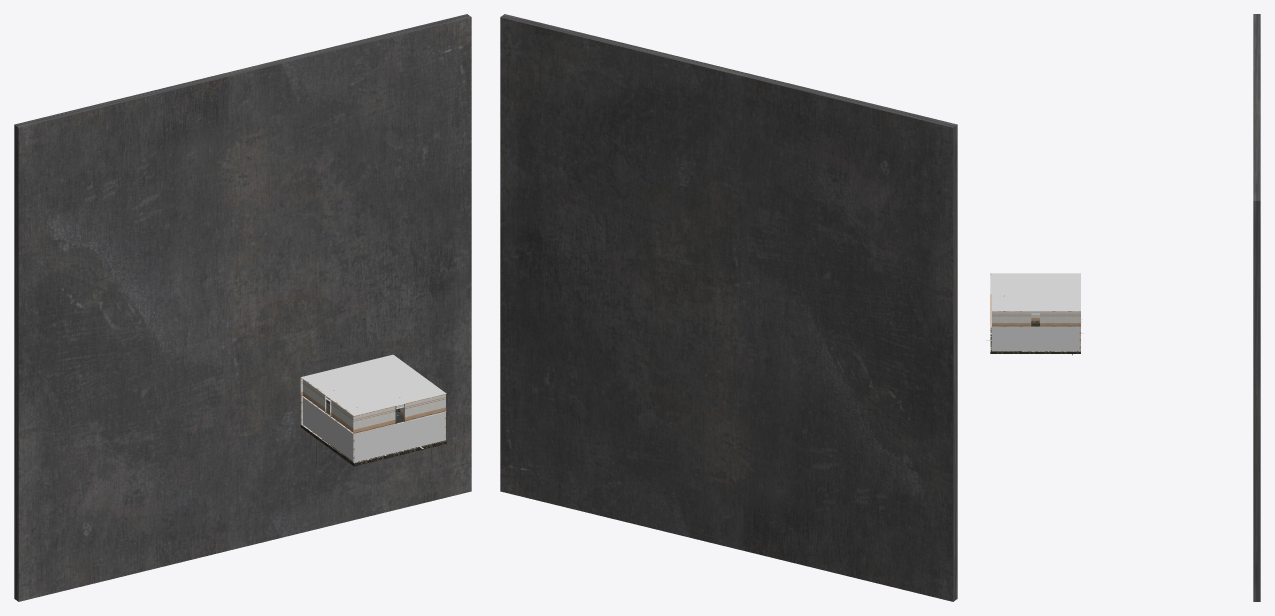
The model's file is Servers.fbx.
3 views of the same model, side by side, from view 1: azimuth 30°, elevation 25°; view 2: azimuth 150°, elevation 25°; view 3: azimuth 270°, elevation 25° (orthographic). The views are drawn at different scales.
Visible parts, largest first — view 1: RID_C, Straight__4_; view 2: RID_C; view 3: Straight__4_, RID_C.
Boxes of the visible parts, box(x1,y1,x2,y2) form: RID_C: box(14, 14, 471, 601); Straight__4_: box(300, 354, 446, 469); RID_C: box(500, 14, 957, 601); Straight__4_: box(986, 273, 1084, 355); RID_C: box(1253, 14, 1260, 601).
Bounding box in the file's own units: 10000 × 10000 × 6205.
8 materials, 5 textured.
